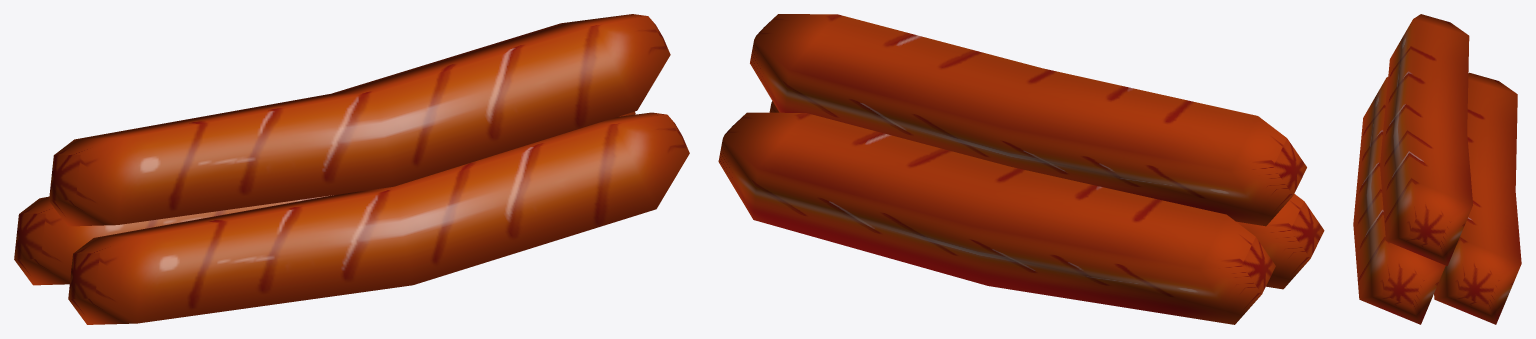
The model's file is sausage low.fbx.
3 renders of one model, left to right at view 1: azimuth 30°, elevation 25°; view 2: azimuth 150°, elevation 25°; view 3: azimuth 270°, elevation 25°, orthographic. The views are drawn at different scales.
Parts seen in each view (by area): view 1: sausgae.003, sausgae.004, sausgae.006; view 2: sausgae.006, sausgae.003, sausgae.004; view 3: sausgae.003, sausgae.006, sausgae.004.
Part boxes in pixels (x1=…): sausgae.003: x1=49, y1=14, x2=670, y2=226; sausgae.004: x1=68, y1=112, x2=689, y2=324; sausgae.006: x1=14, y1=111, x2=635, y2=285; sausgae.006: x1=718, y1=112, x2=1275, y2=324; sausgae.003: x1=750, y1=14, x2=1306, y2=226; sausgae.004: x1=769, y1=101, x2=1324, y2=289; sausgae.003: x1=1380, y1=14, x2=1472, y2=265; sausgae.006: x1=1434, y1=72, x2=1521, y2=324; sausgae.004: x1=1353, y1=77, x2=1445, y2=324.
Size of the model in its own units: 4.57 by 1.5 by 1.58.
